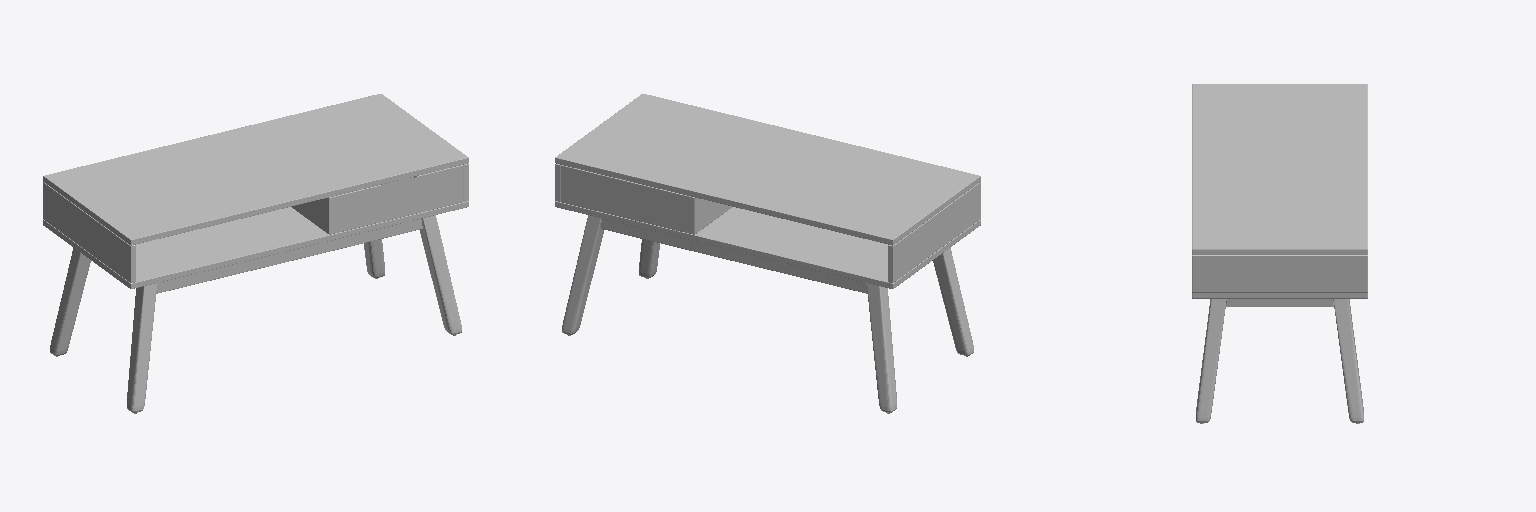
The model's file is oggg.obj.
3 renders of one model, left to right at view 1: azimuth 30°, elevation 25°; view 2: azimuth 150°, elevation 25°; view 3: azimuth 270°, elevation 25°, orthographic.
Visible parts, largest first — view 1: TopFrame, Legs, Drawer, LegFrame; view 2: TopFrame, Legs, LegFrame; view 3: TopFrame, Legs, LegFrame.
Boxes of the visible parts, box(x1,y1,x2,y2) form: TopFrame: box(43, 94, 468, 288); Legs: box(50, 215, 461, 412); Drawer: box(335, 165, 462, 232); LegFrame: box(156, 219, 422, 293); TopFrame: box(555, 94, 980, 288); Legs: box(562, 215, 973, 412); LegFrame: box(601, 219, 867, 293); TopFrame: box(1192, 84, 1367, 298); Legs: box(1196, 299, 1363, 422); LegFrame: box(1226, 299, 1333, 306).
Size of the model in its own units: 100 by 50.49 by 45.